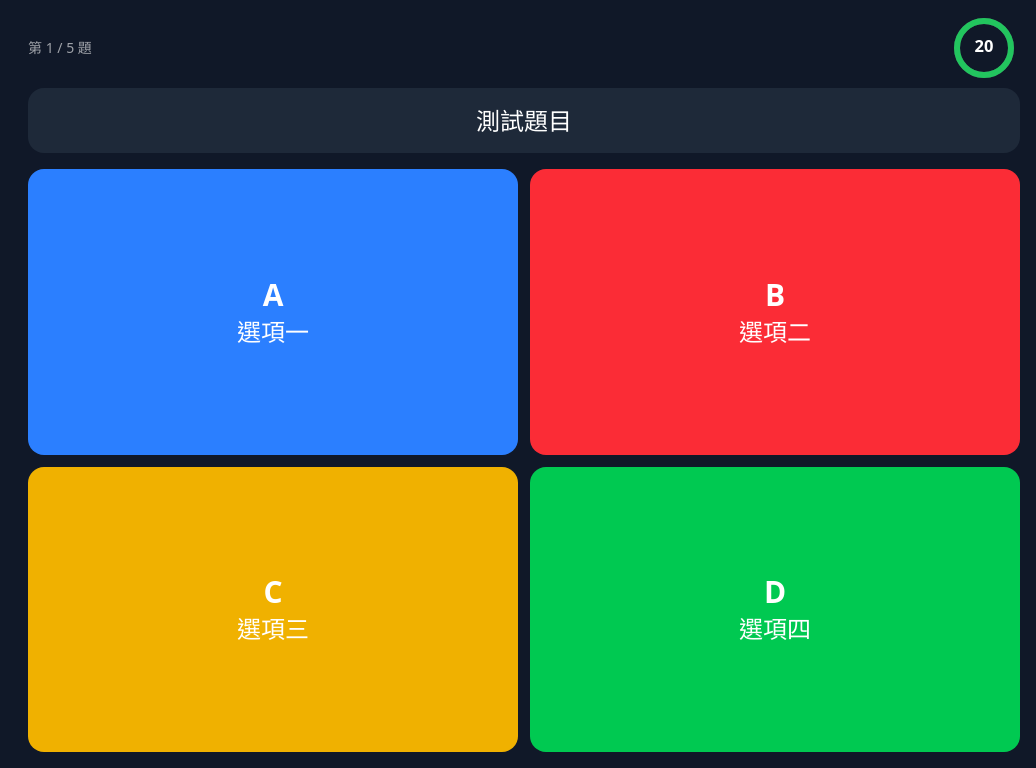
Test case: PlayerPage › shows 已作答 status and keeps AnswerPad visible after answer submitted
Click the button with aria-label "選項 A". click: x=273, y=312
box: [28,169,518,454]
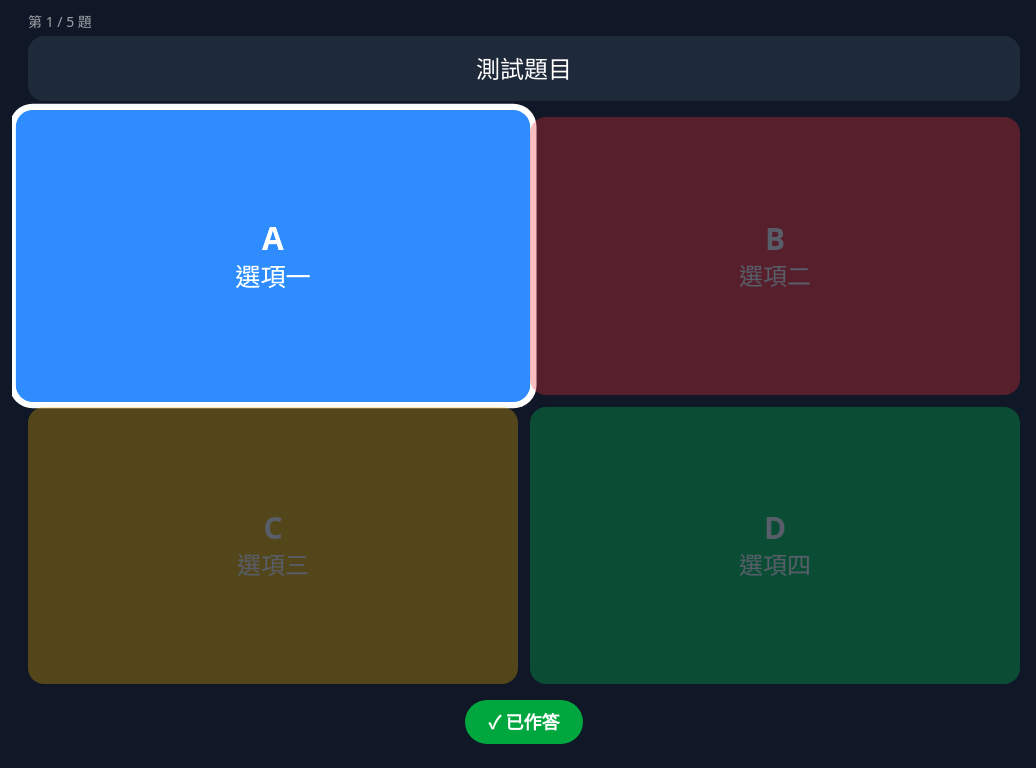
Expected: the button with aria-label "選項 A" is shown, [16,110,530,402]
Result: the text "✓ 已作答" is shown at [464,700,584,744]
